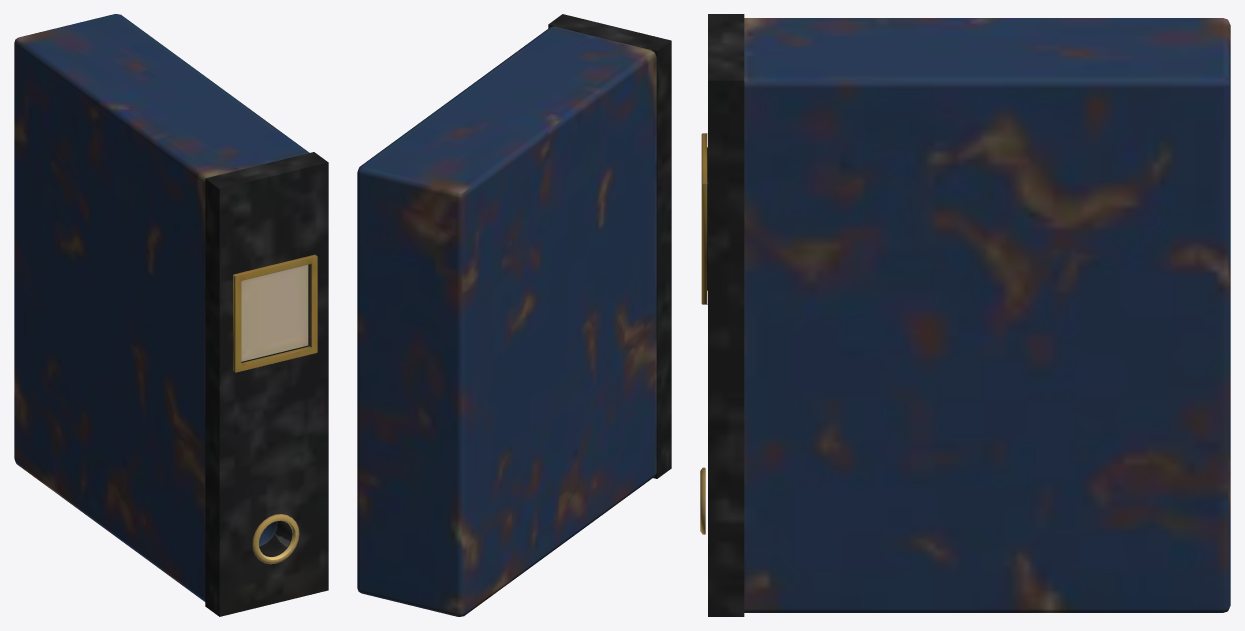
The picture shows the model from 3 angles, left to right: view 1: azimuth 30°, elevation 25°; view 2: azimuth 150°, elevation 25°; view 3: azimuth 270°, elevation 25°; orthographic projection. The views are drawn at different scales.
Parts seen in each view (by area): view 1: box_file; view 2: box_file; view 3: box_file.
Boxes of the visible parts, x1,y1,x2,y2 form: box_file: (14, 14, 328, 616); box_file: (357, 14, 671, 616); box_file: (700, 14, 1230, 616).
Size of the model in its own units: 0.087 by 0.3264 by 0.2926.
1 material, 1 textured.
